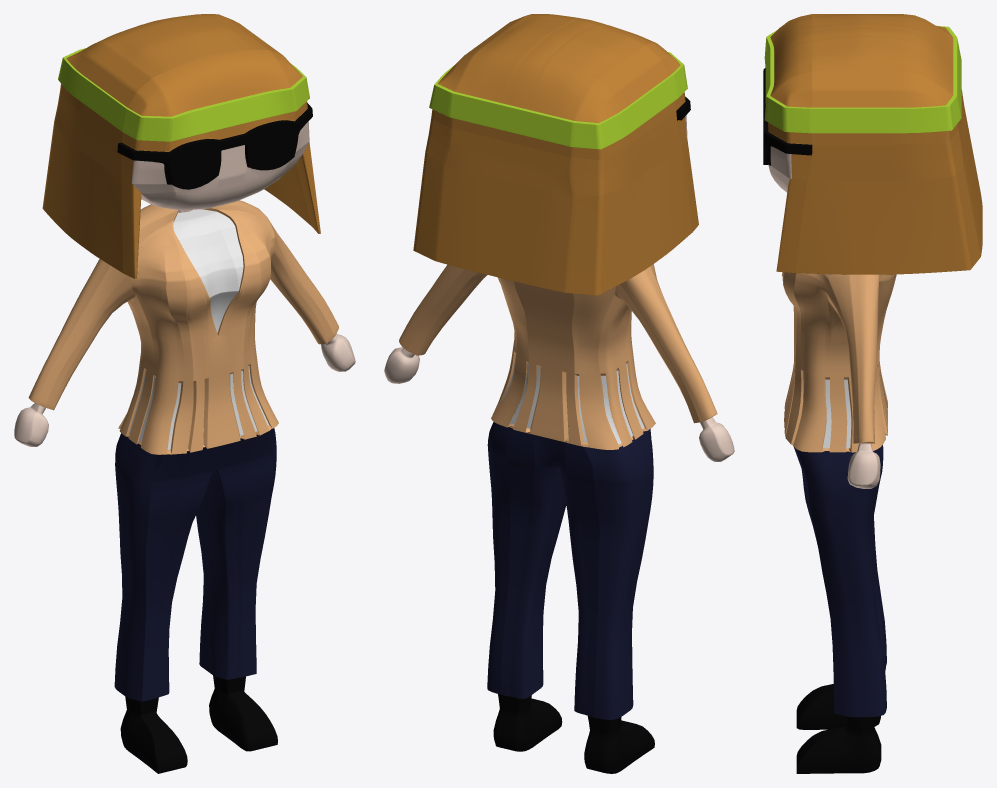
The model's file is NPC_Female.fbx.
3 views of the same model, side by side, from view 1: azimuth 30°, elevation 25°; view 2: azimuth 150°, elevation 25°; view 3: azimuth 270°, elevation 25° (orthographic). The views are drawn at different scales.
Visible parts, largest first — view 1: NPC_Base_Model_Female_polySurface1; view 2: NPC_Base_Model_Female_polySurface1; view 3: NPC_Base_Model_Female_polySurface1.
Part boxes in pixels (left/top/right/bottom): NPC_Base_Model_Female_polySurface1: left=14, top=14, right=355, bottom=773; NPC_Base_Model_Female_polySurface1: left=384, top=14, right=734, bottom=773; NPC_Base_Model_Female_polySurface1: left=763, top=14, right=982, bottom=773.
Bounding box in the file's own units: 140 × 279 × 77.8.
